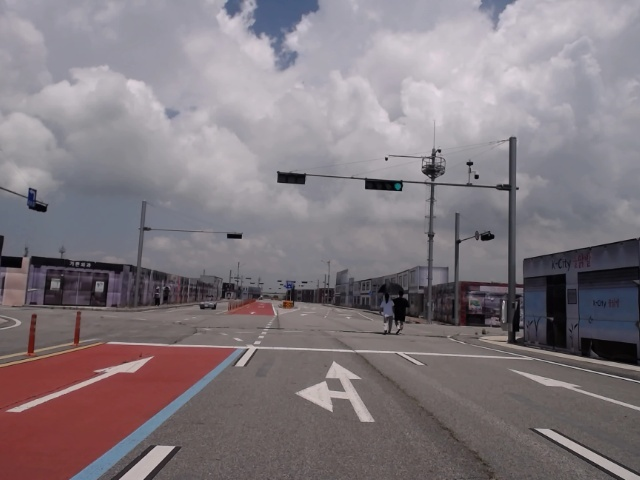straight_green_4: (364, 179, 405, 191)
